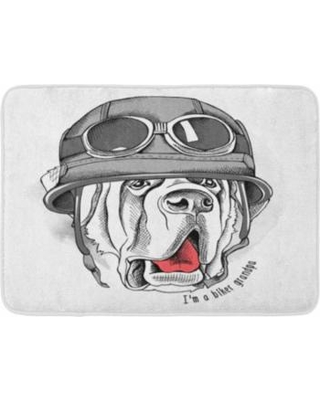with_helmet: (34, 97, 281, 228)
